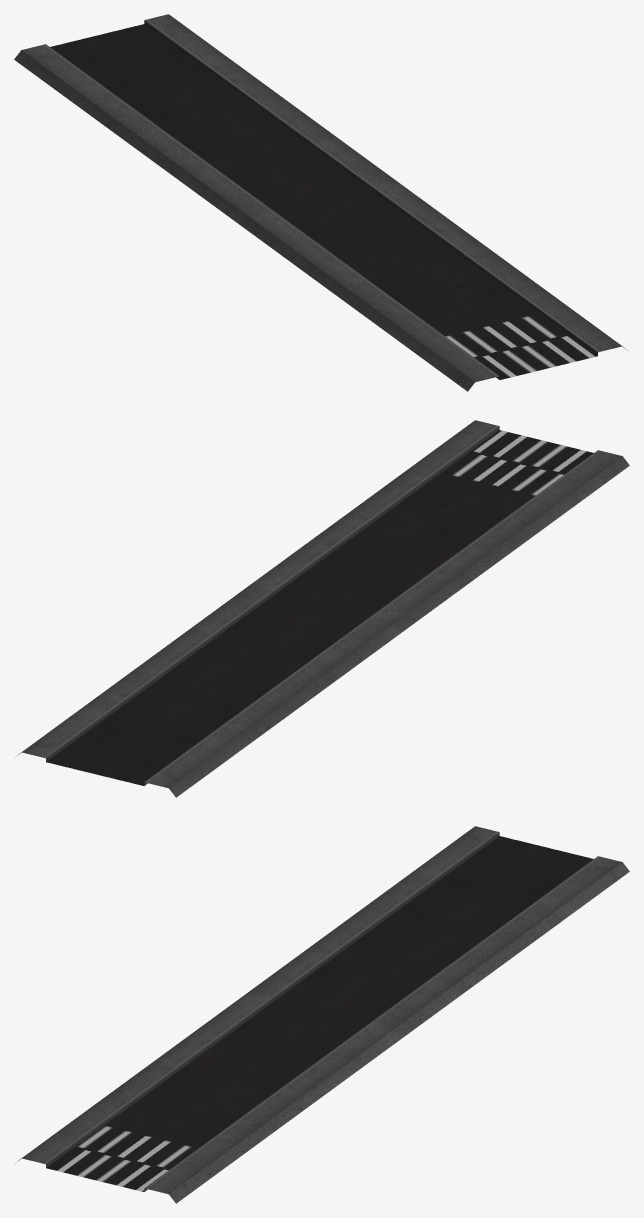
Rendered from RJs_Road 1 Basic Segment_Node_A.fbx.
The picture shows the model from 3 angles, top to bottom: view 1: azimuth 30°, elevation 25°; view 2: azimuth 150°, elevation 25°; view 3: azimuth 330°, elevation 25°; orthographic projection.
Parts seen in each view (by area): view 1: plane; view 2: plane; view 3: plane.
Part boxes in pixels (box(x1,y1,x2,y2)): plane: box(14, 14, 626, 391); plane: box(17, 420, 629, 797); plane: box(17, 826, 629, 1203).
Bounding box in the file's own units: 1320 × 60.1 × 6400.
